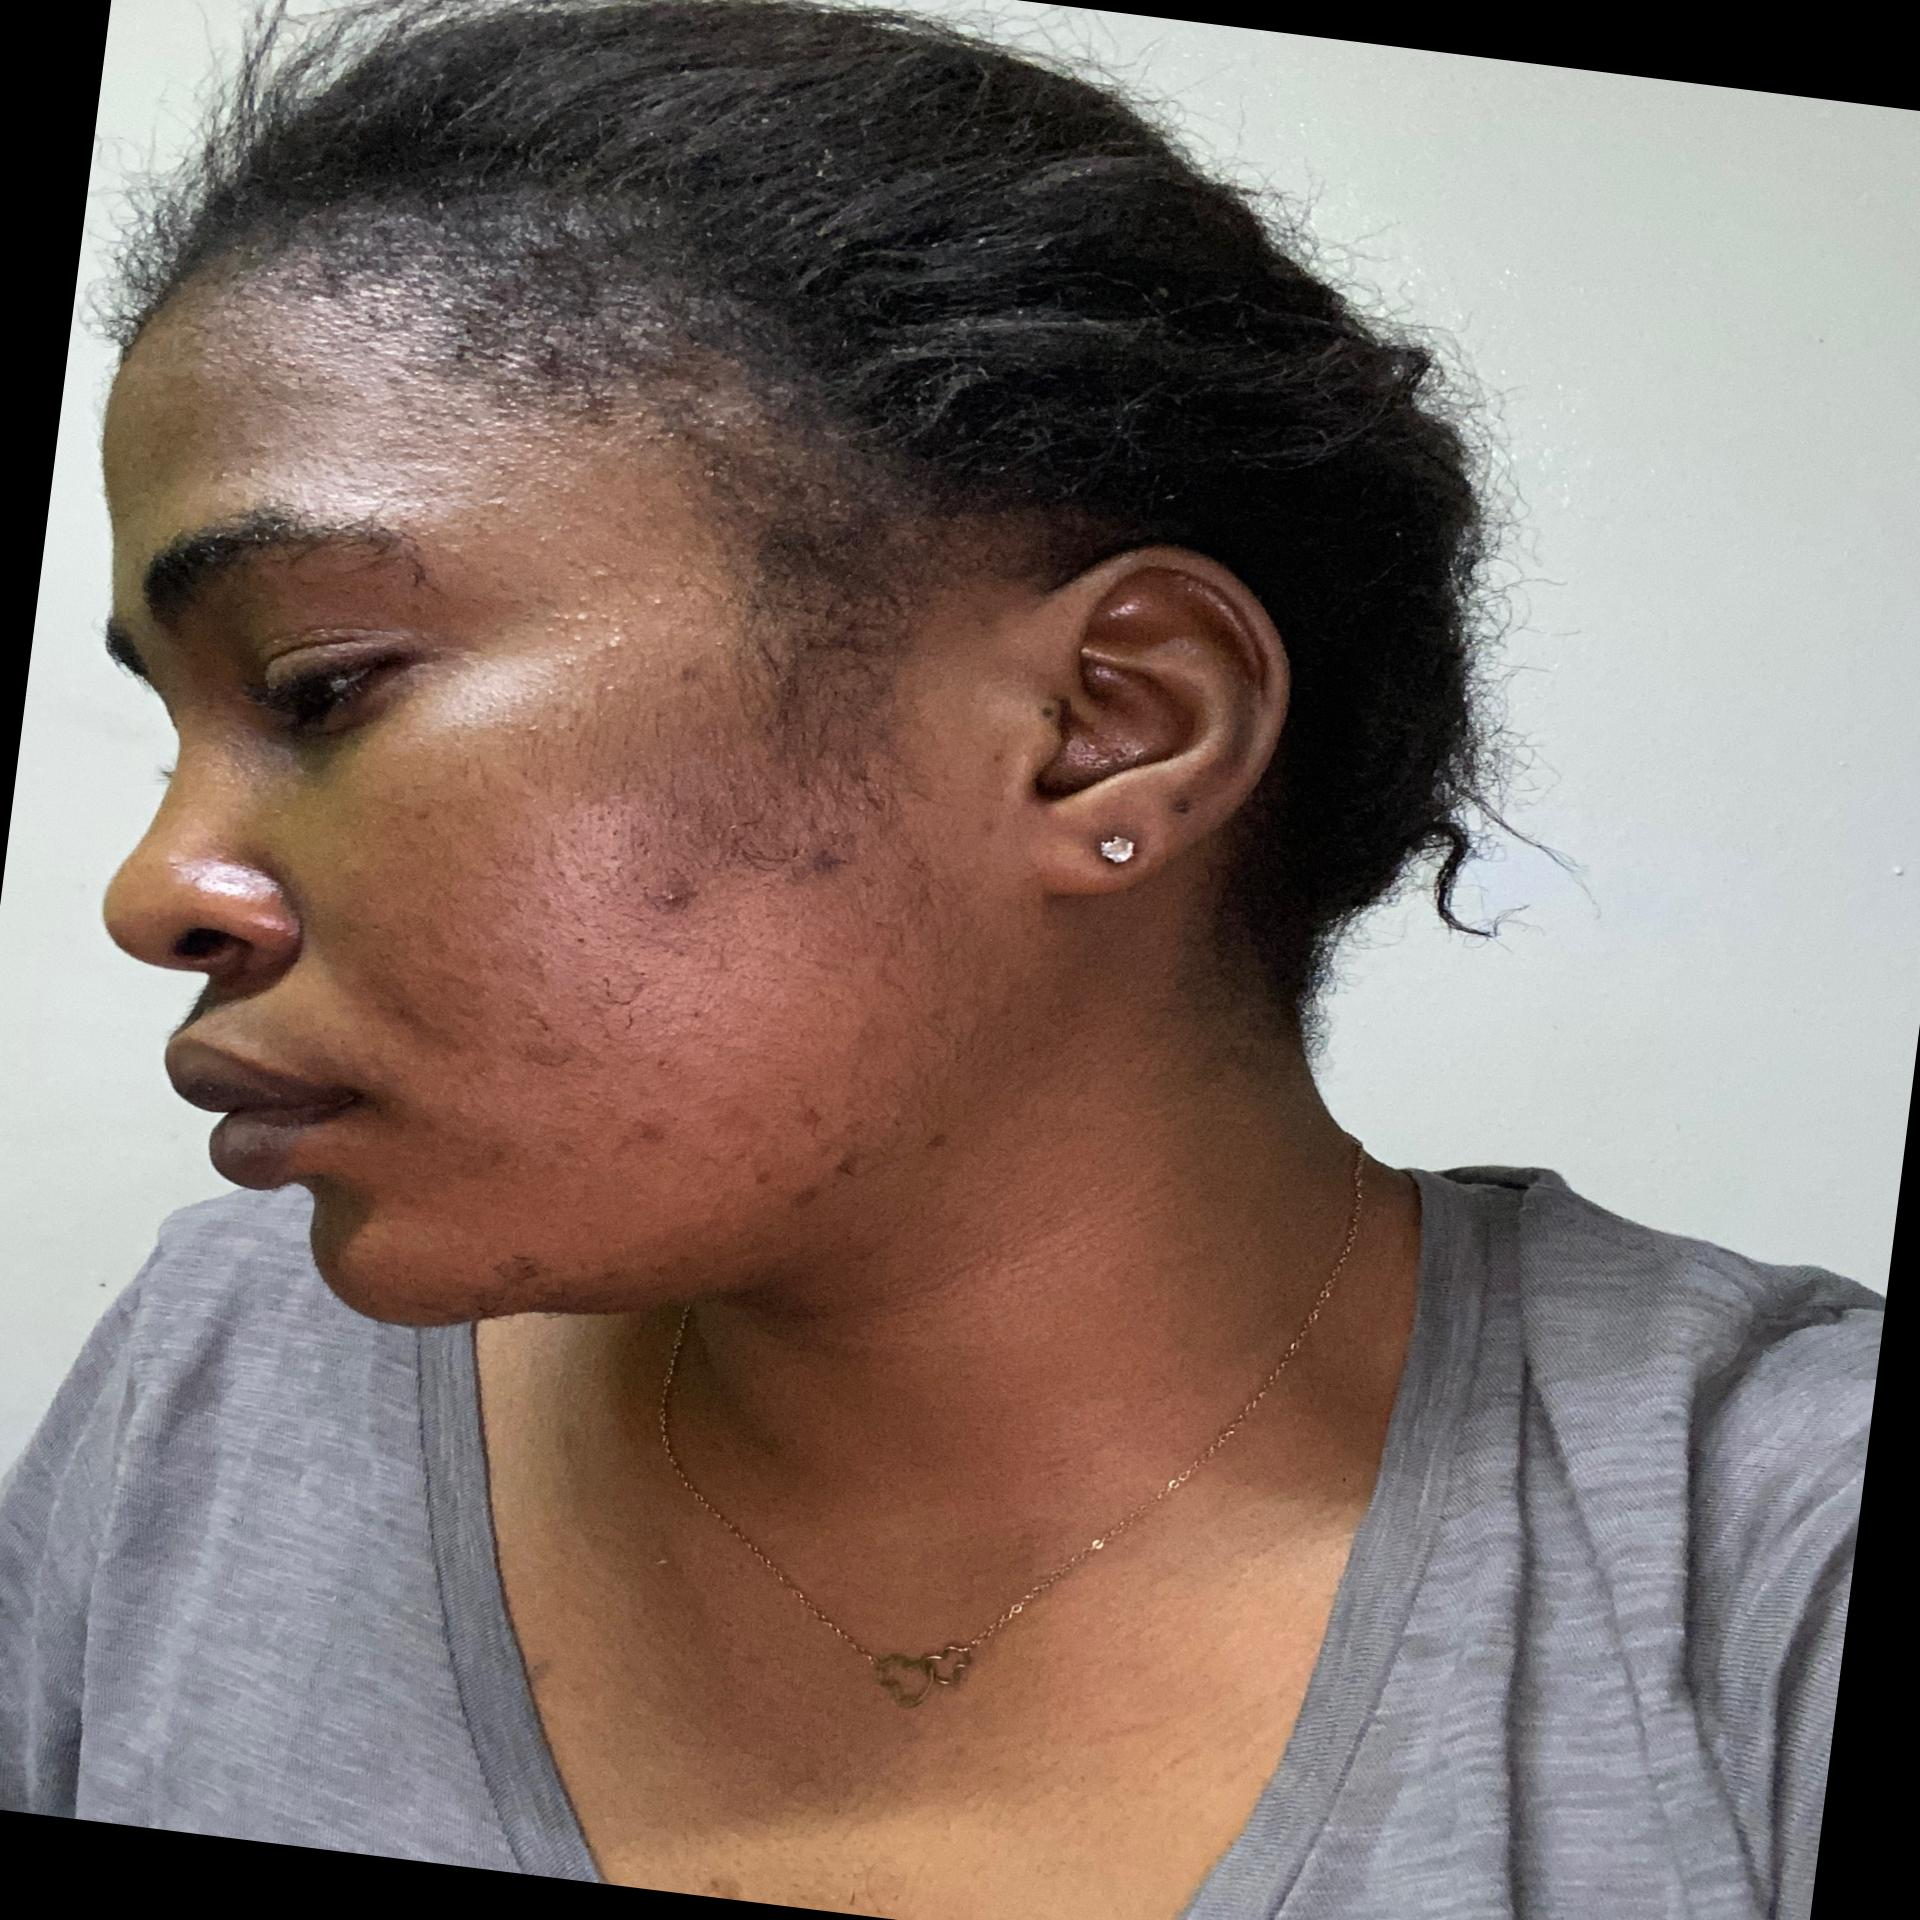Acne: (793, 1136, 867, 1220), (482, 1238, 563, 1308), (647, 869, 710, 920), (793, 837, 853, 886), (788, 1094, 837, 1132), (914, 1124, 962, 1160), (626, 1111, 665, 1148), (679, 652, 709, 689), (751, 1162, 781, 1197)
Blackhead: (369, 394, 617, 496), (529, 545, 679, 712), (533, 796, 654, 944)
